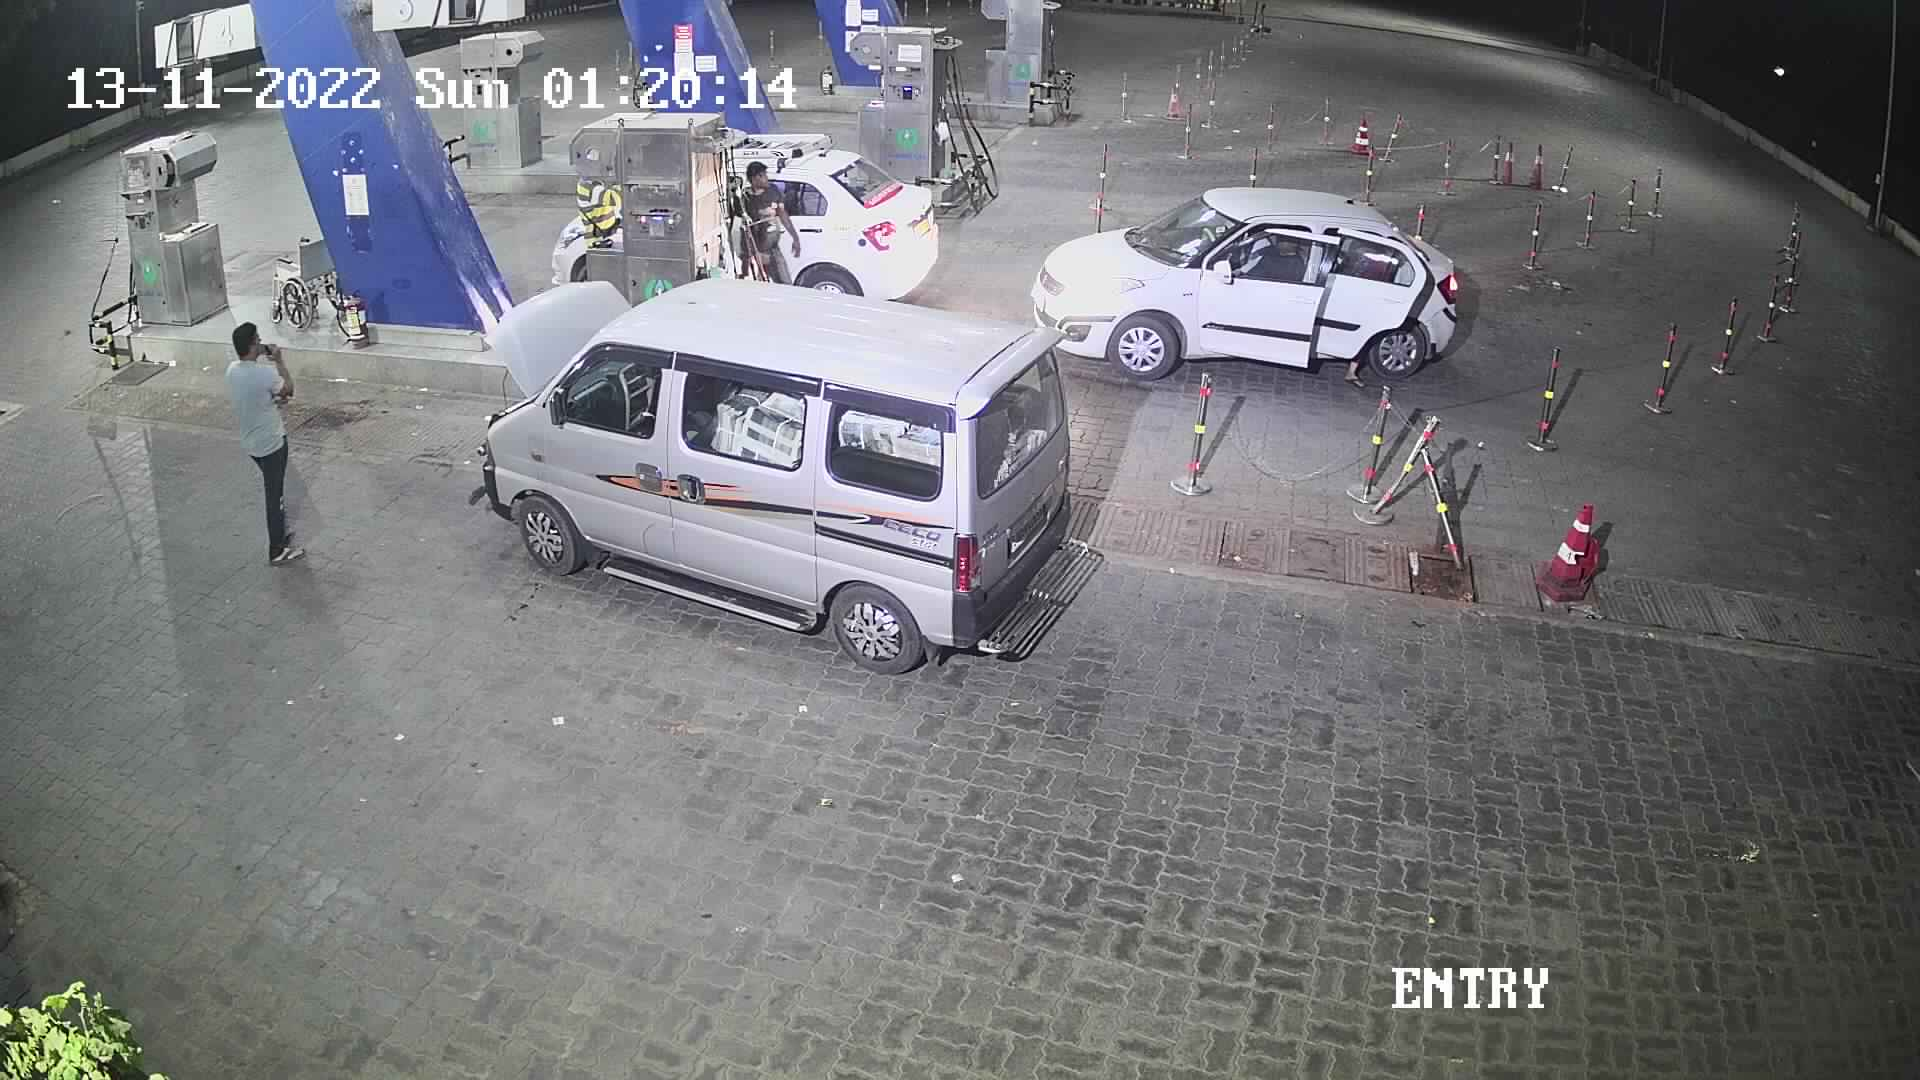Car: (460, 258, 1104, 692), (1021, 175, 1468, 386), (712, 121, 951, 314)
